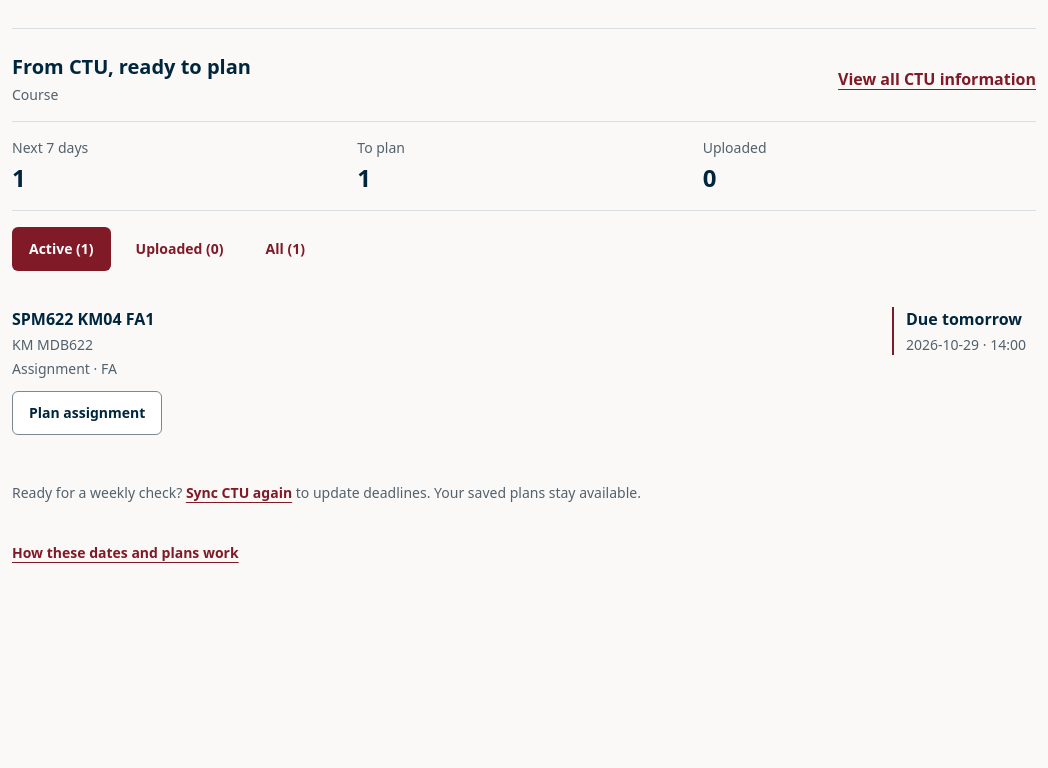
saved CTU presentation › lets students plan an unlinked FA directly on Assessments
Click the button "Plan assignment".
click(87, 413)  # box [12,391,162,435]
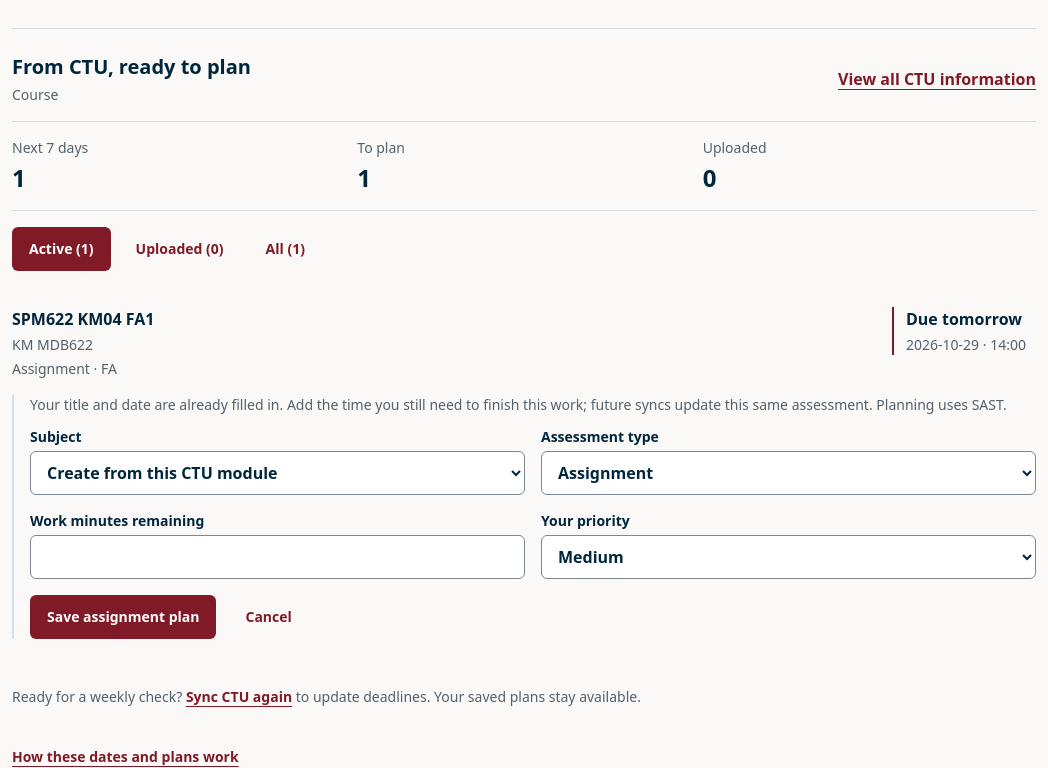
Expected: the number field labelled "Work minutes remaining" is shown, [30,535,525,579]
